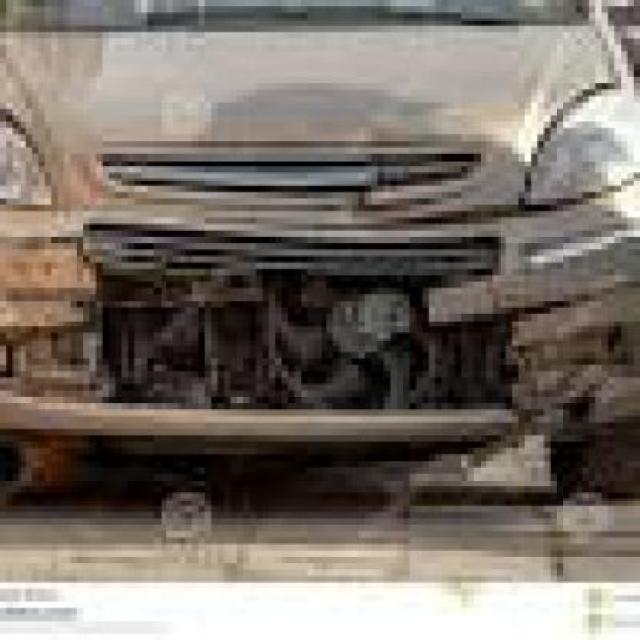damaged-front-bumper: (0, 204, 634, 453)
